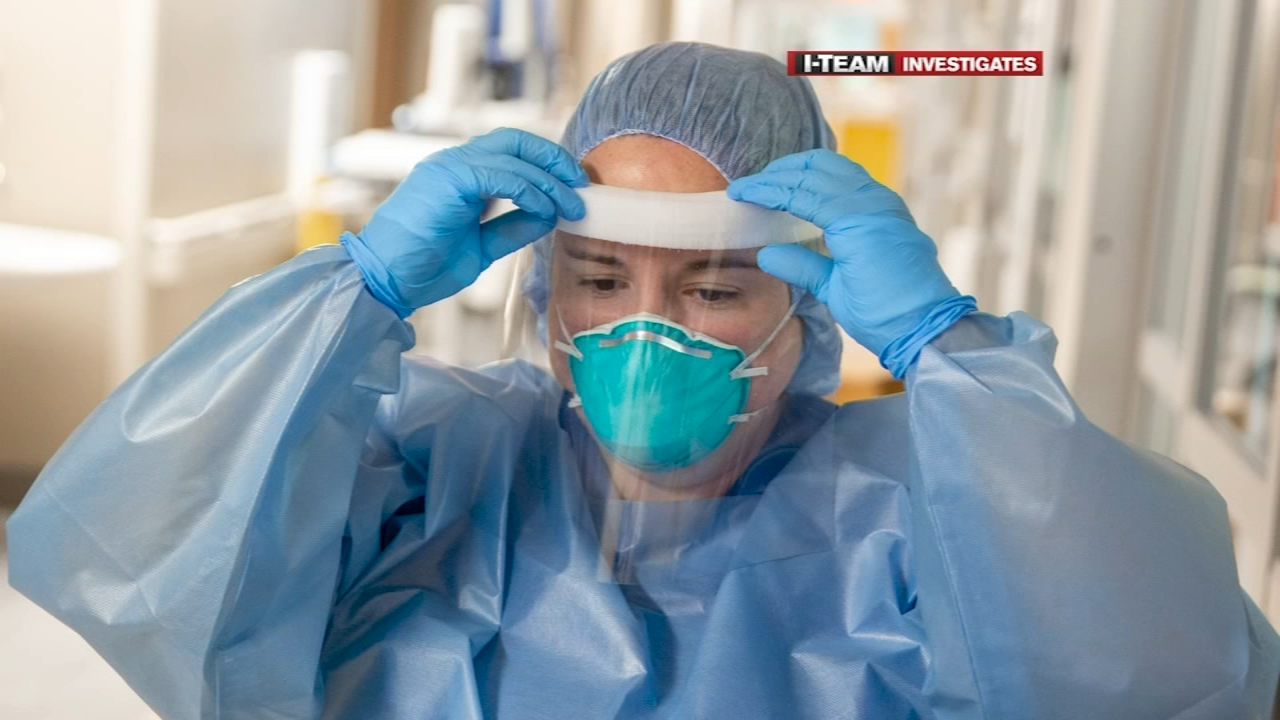glove: (725, 144, 956, 356), (352, 126, 591, 311)
